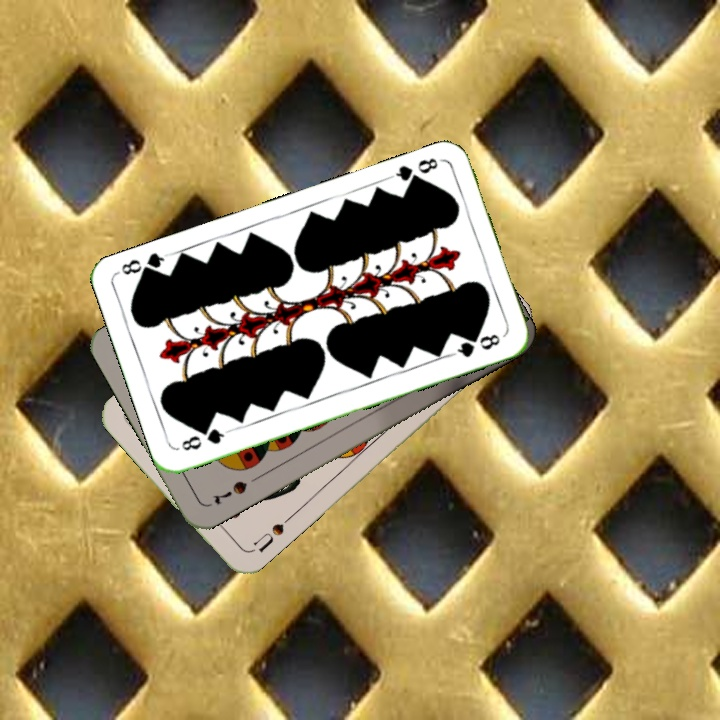G8: (388, 154, 441, 189), (177, 424, 232, 454)
S7: (209, 476, 250, 507)
SU: (249, 512, 294, 555)
